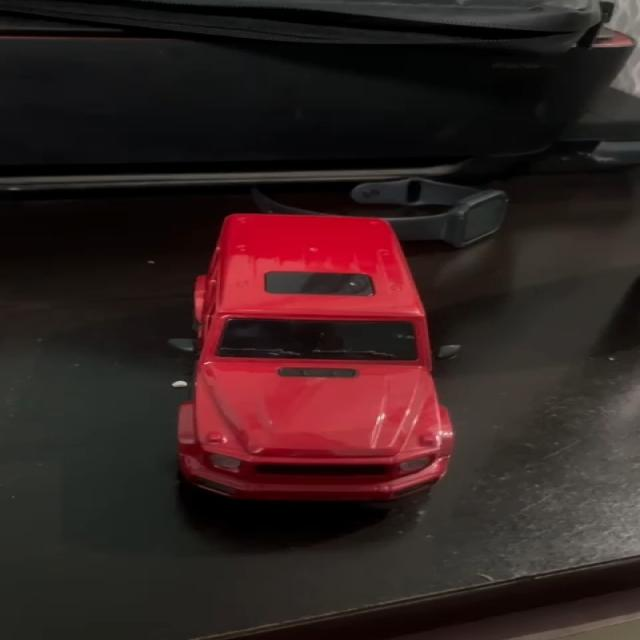light_vehicle: (176, 211, 456, 496)
